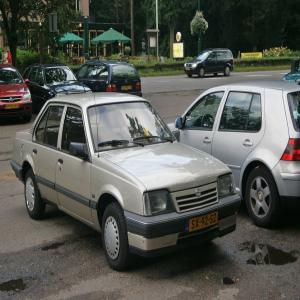Vehicle-registration-plate: (187, 212, 219, 237), (6, 103, 18, 110), (122, 85, 132, 92)
